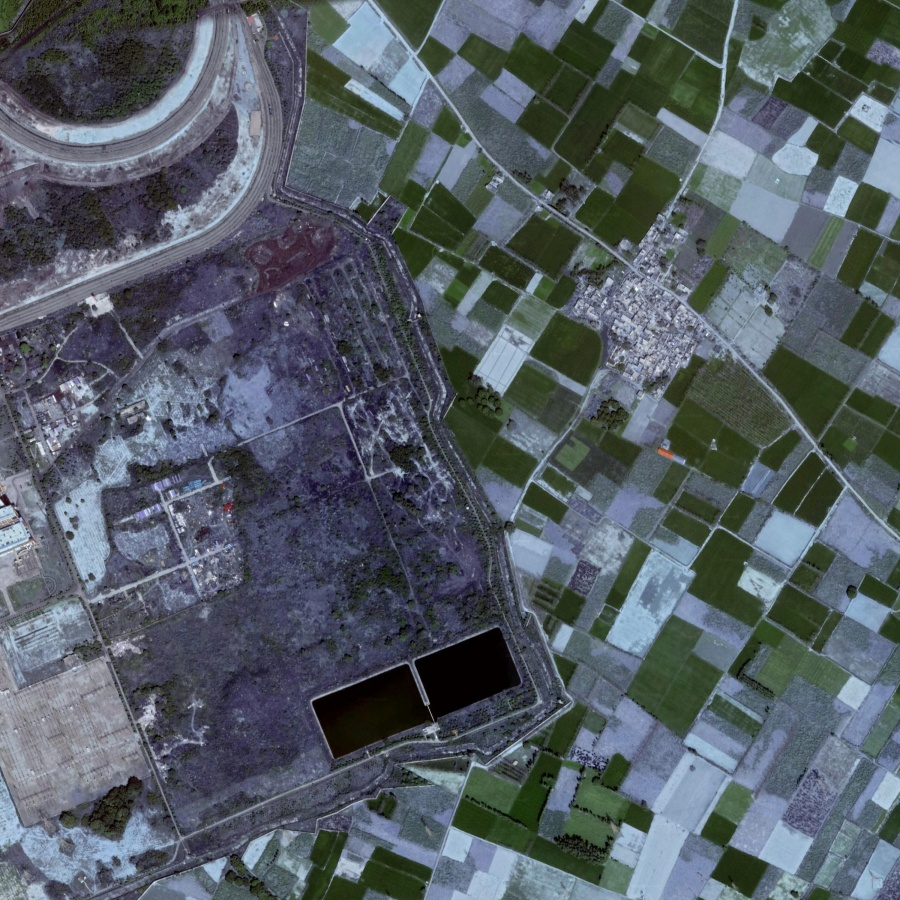PowerPlant: (291, 607, 532, 793)
